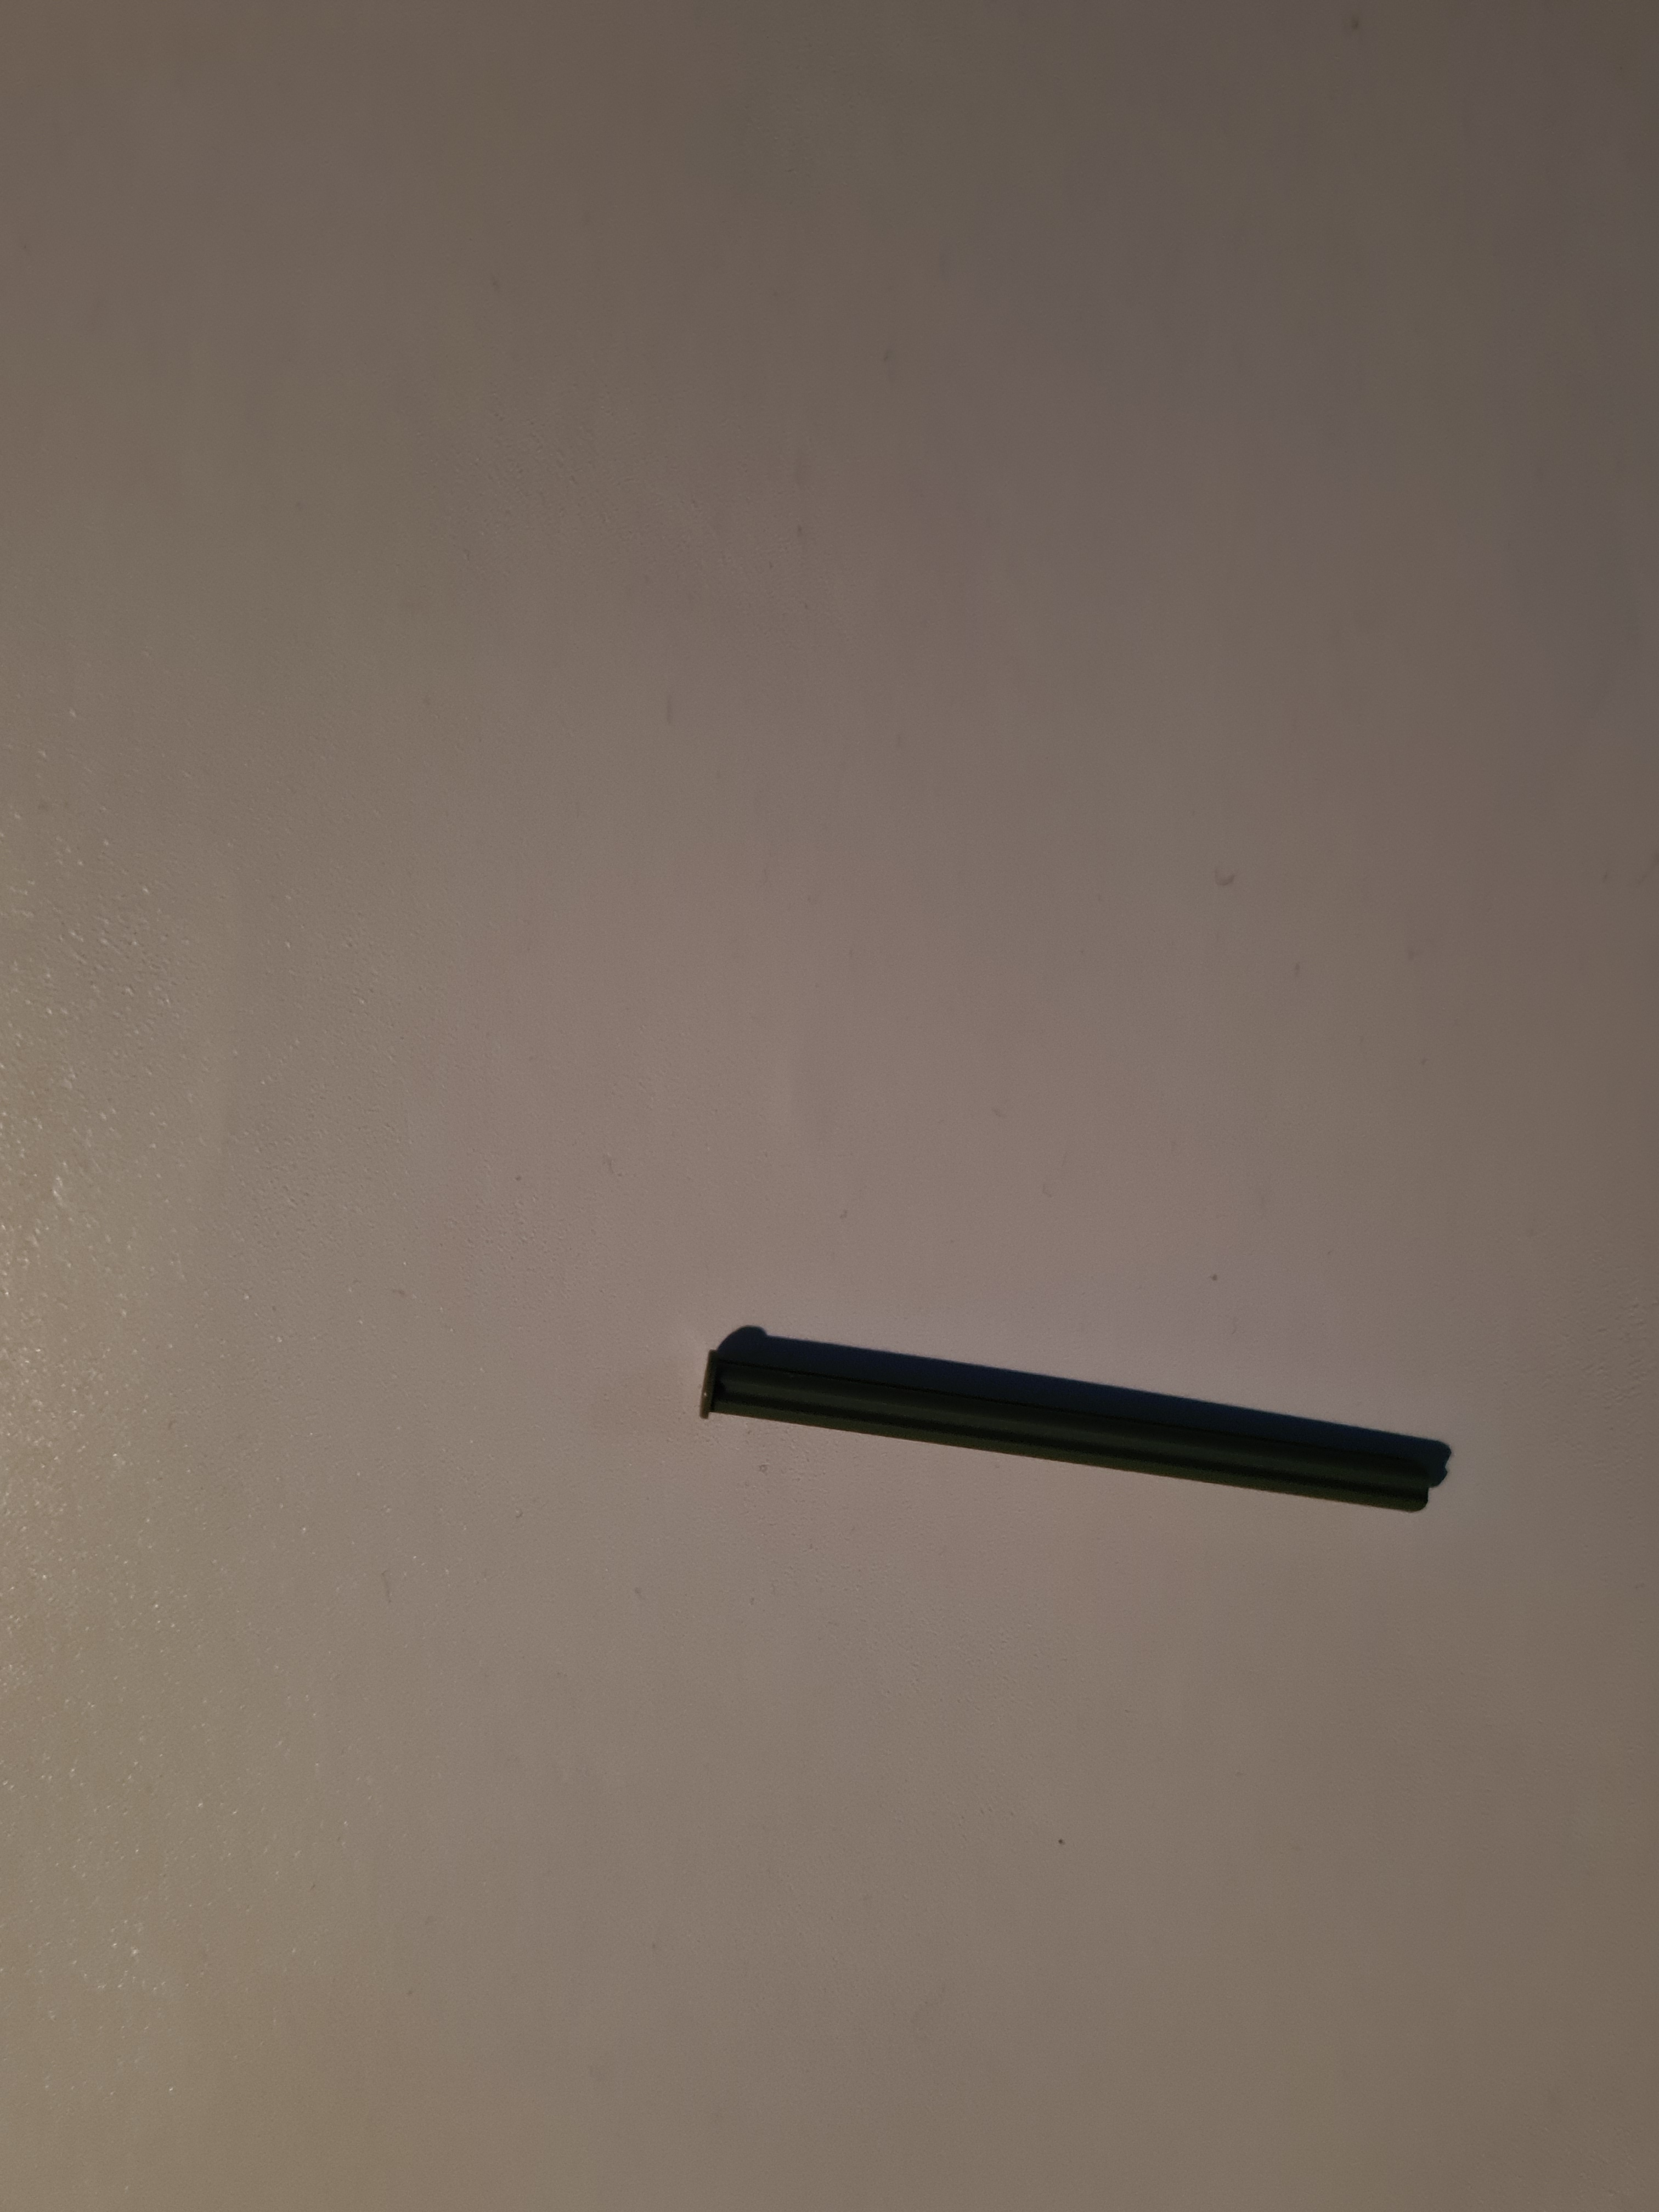Grau_lang: (673, 1305, 1483, 1581)
